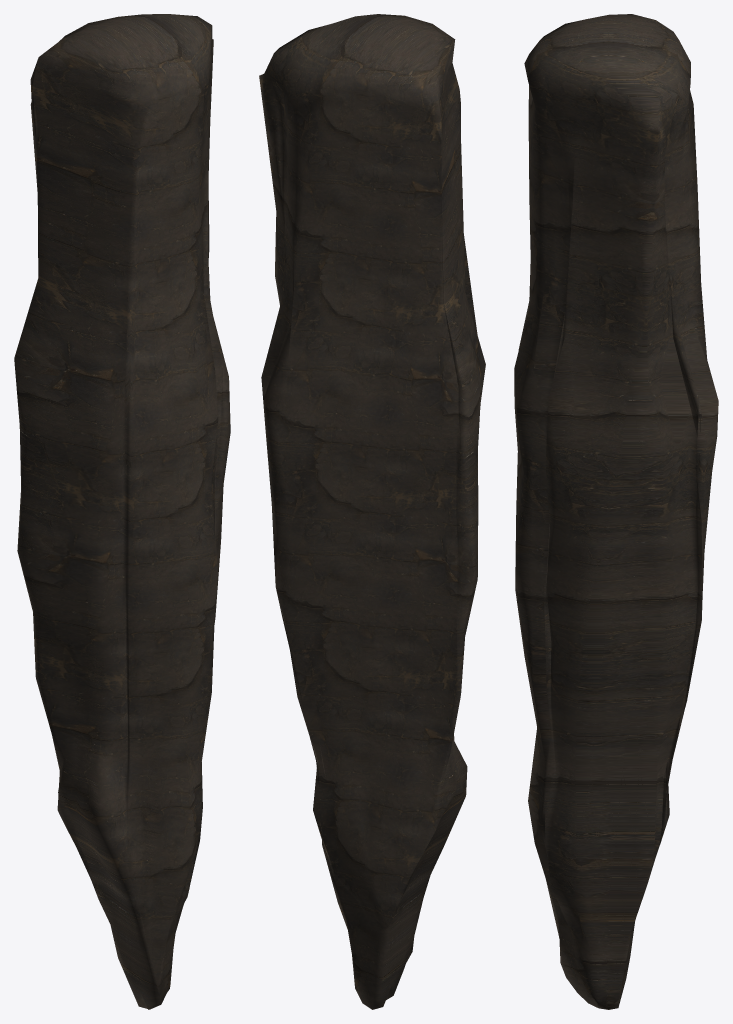
The model's file is cliff_pillar_b_lod1.gltf.
3 renders of one model, left to right at view 1: azimuth 30°, elevation 25°; view 2: azimuth 150°, elevation 25°; view 3: azimuth 270°, elevation 25°, orthographic.
Visible parts, largest first — view 1: cliff_pillar_b_LOD1; view 2: cliff_pillar_b_LOD1; view 3: cliff_pillar_b_LOD1.
Part boxes in pixels (x1,y1,x2,y2): cliff_pillar_b_LOD1: (14,14,230,1009); cliff_pillar_b_LOD1: (259,14,485,1009); cliff_pillar_b_LOD1: (514,14,718,1009).
Size of the model in its own units: 9.7 by 44 by 8.36.
1 material, 1 textured.
